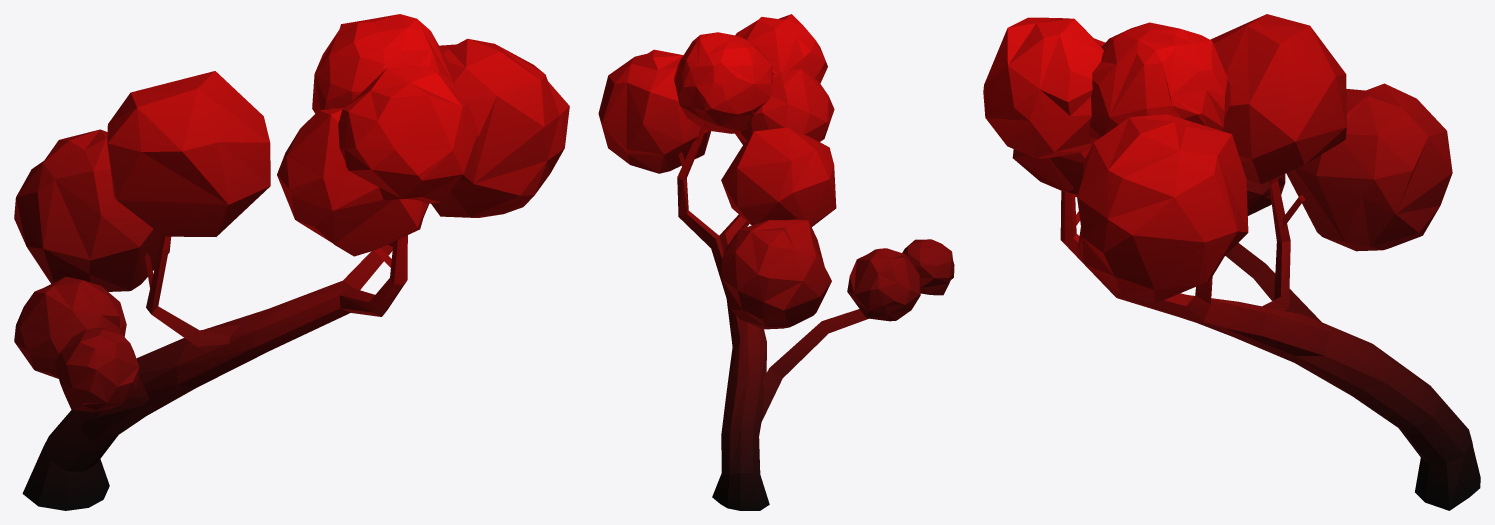
The model's file is TreeBent09.fbx.
3 renders of one model, left to right at view 1: azimuth 30°, elevation 25°; view 2: azimuth 150°, elevation 25°; view 3: azimuth 270°, elevation 25°, orthographic. The views are drawn at different scales.
Parts seen in each view (by area): view 1: TreeBent09_LOD0; view 2: TreeBent09_LOD0; view 3: TreeBent09_LOD0.
Boxes of the visible parts, x1,y1,x2,y2 form: TreeBent09_LOD0: (14, 14, 569, 510); TreeBent09_LOD0: (598, 14, 954, 510); TreeBent09_LOD0: (983, 14, 1480, 510).
Size of what is drawn, in the model's own units: 1019 by 1037 by 861.
